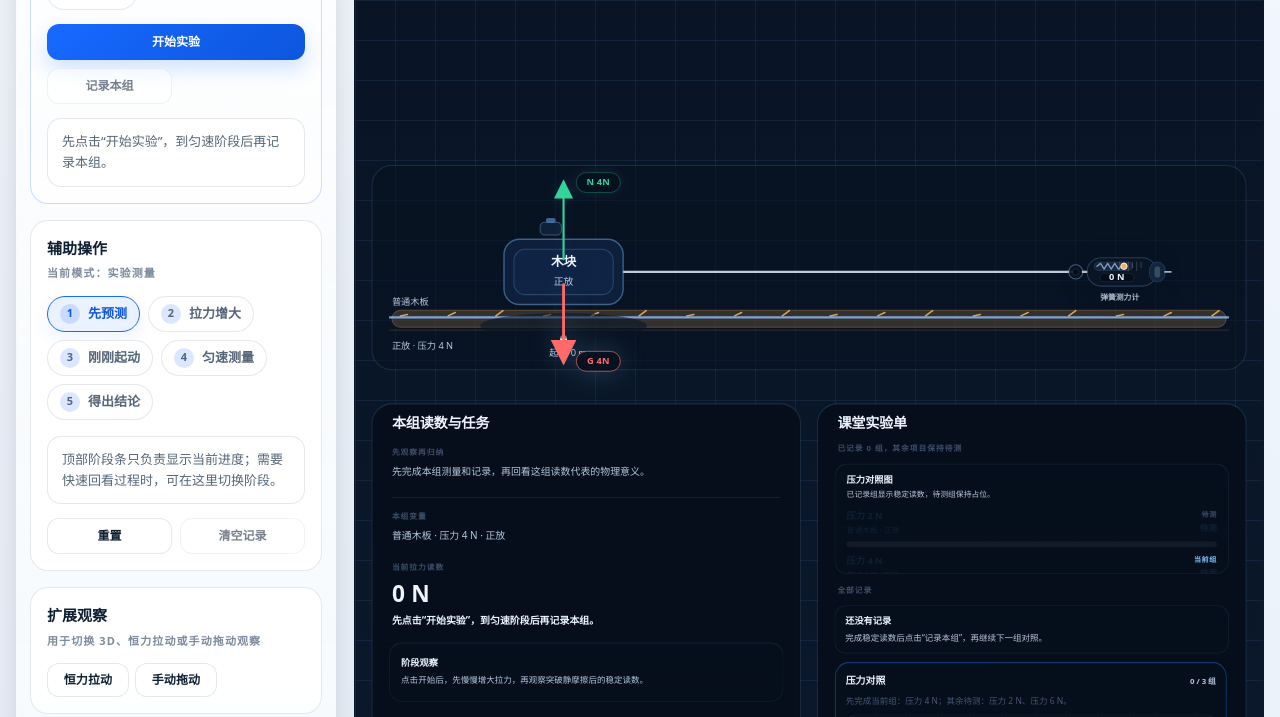
Test: BasicForceLab classroom entry › only enables manual classroom recording after the reading reaches the uniform stage
(page scrolled)
Expected: the button "记录本组" is disabled, [47, 68, 172, 104]
Step 1. Click the button with aria-label "阶段 4：匀速测量" → (214, 358), box [161, 340, 267, 376]
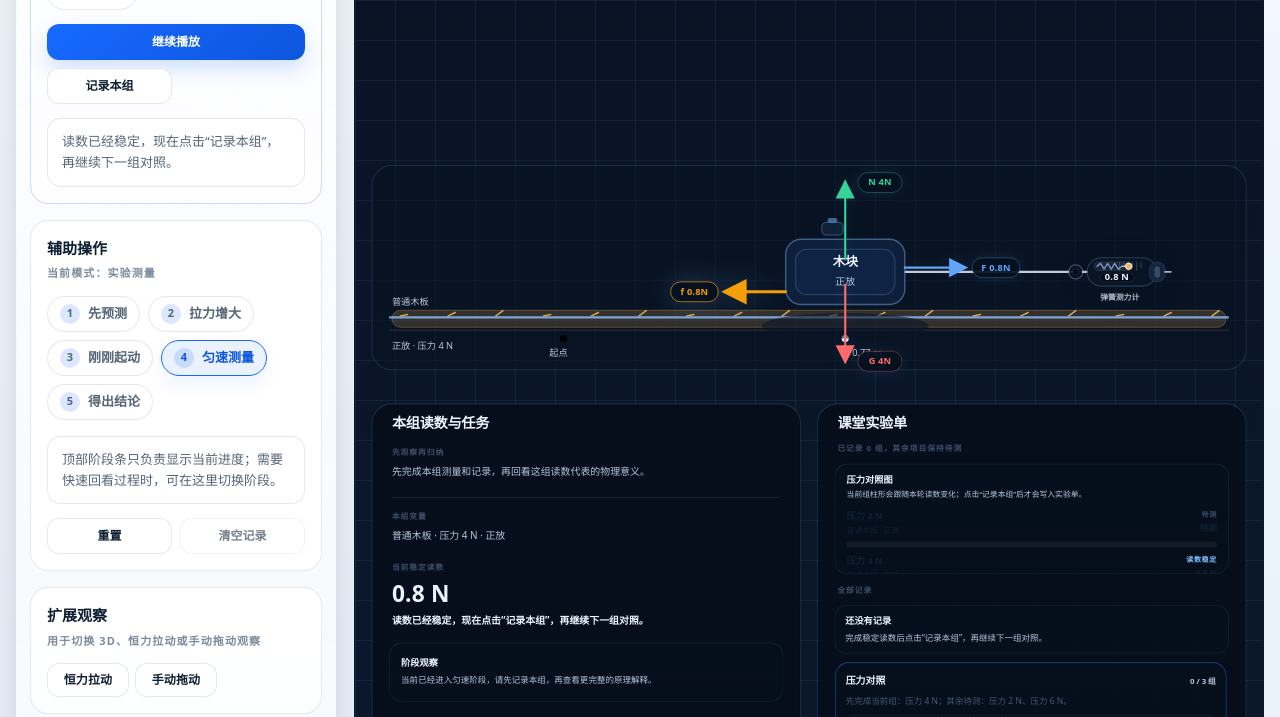
Expected: the text "压力对照图" is shown, [847, 473, 893, 486]
Expected: the button "记录本组" is enabled, [47, 68, 172, 104]
Expected: the text "读数已经稳定，现在点击“记录本组”，再继续下一组对照。" is shown, [47, 118, 305, 187]
